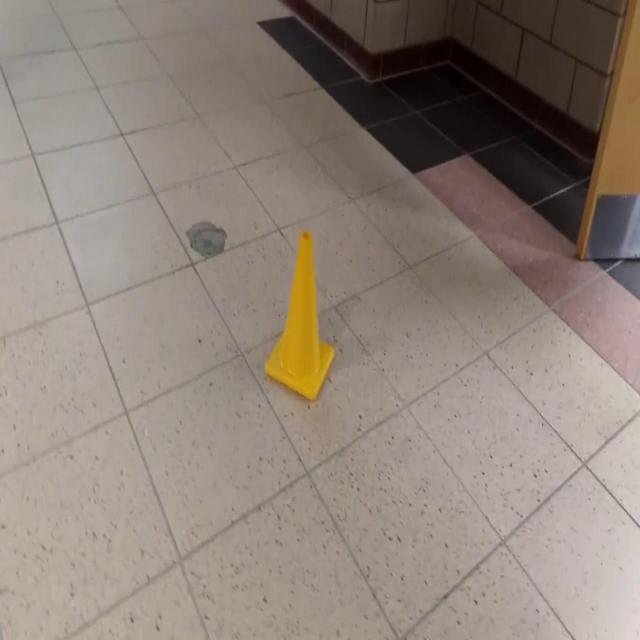frc_cone: (263, 230, 335, 406)
